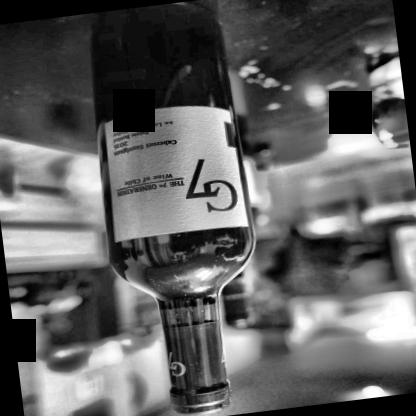G7: (96, 99, 244, 247)
